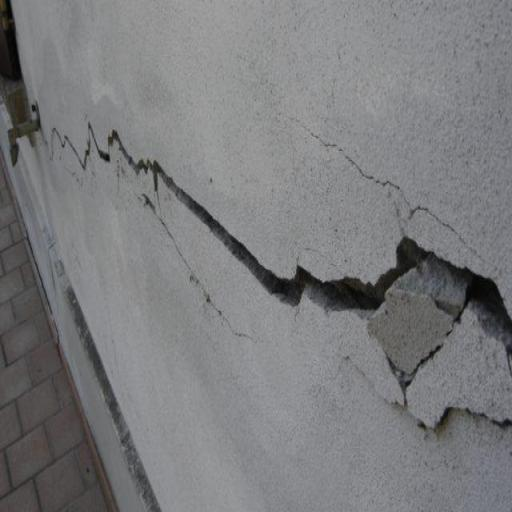spalling: (49, 114, 512, 342), (322, 136, 484, 254), (383, 317, 463, 398)
